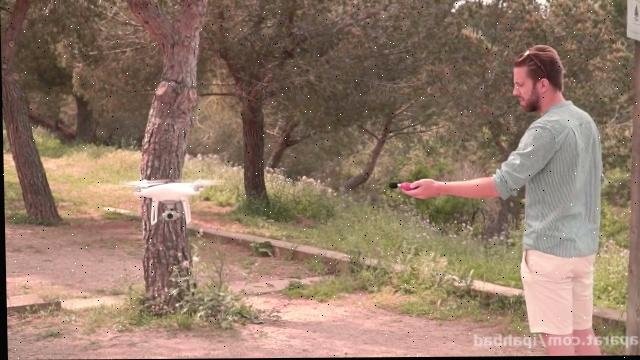drone: (109, 177, 224, 225)
